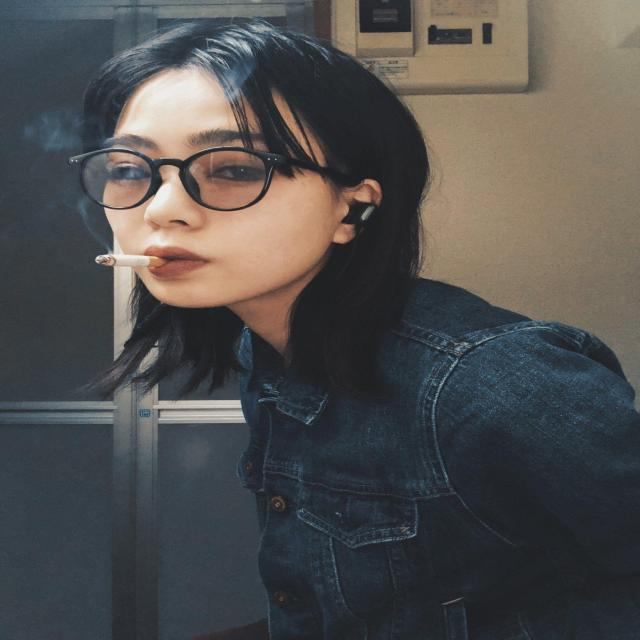cigarette: (81, 239, 198, 285)
